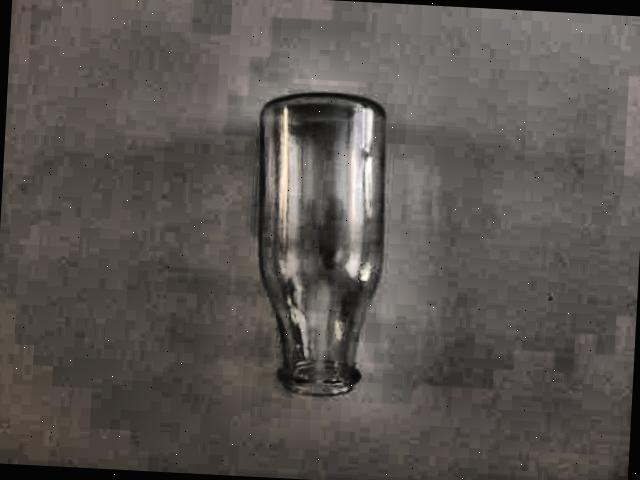Bottles: (216, 79, 427, 425)
